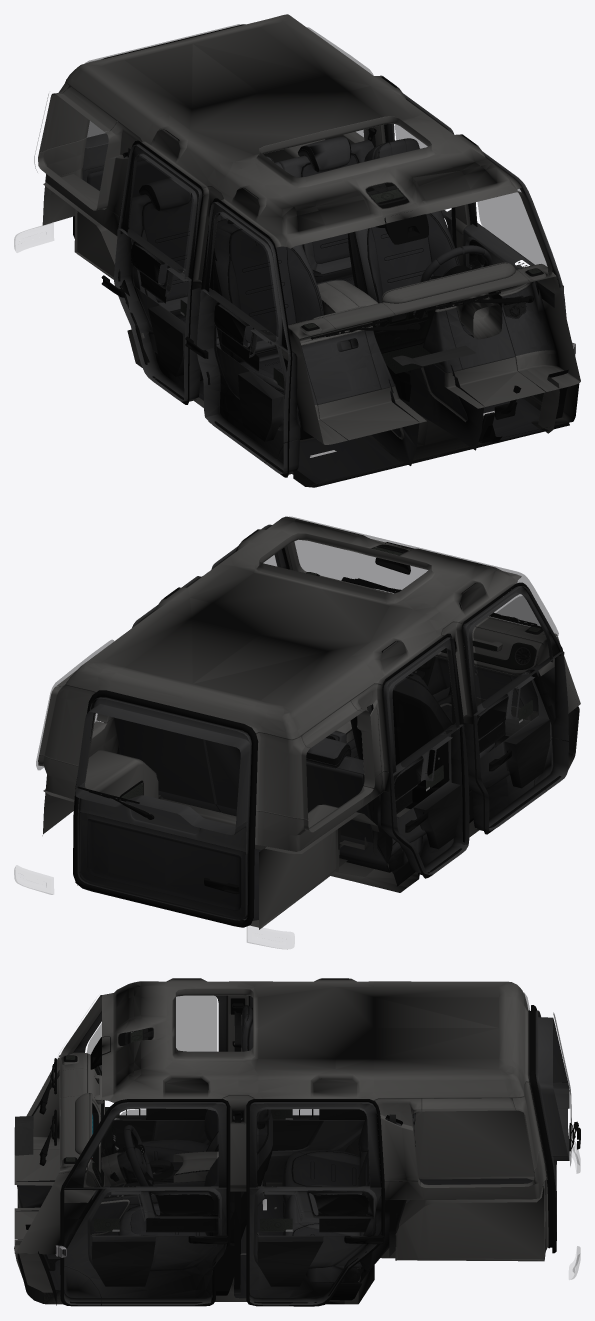
The model's file is habitacle.glb.
3 views of the same model, one above another, from view 1: azimuth 30°, elevation 25°; view 2: azimuth 150°, elevation 25°; view 3: azimuth 270°, elevation 25° (orthographic). The views are drawn at different scales.
Bounding box in the file's own units: 1.74 × 1.32 × 2.98.
Materials: 36 (26 with a texture image).
